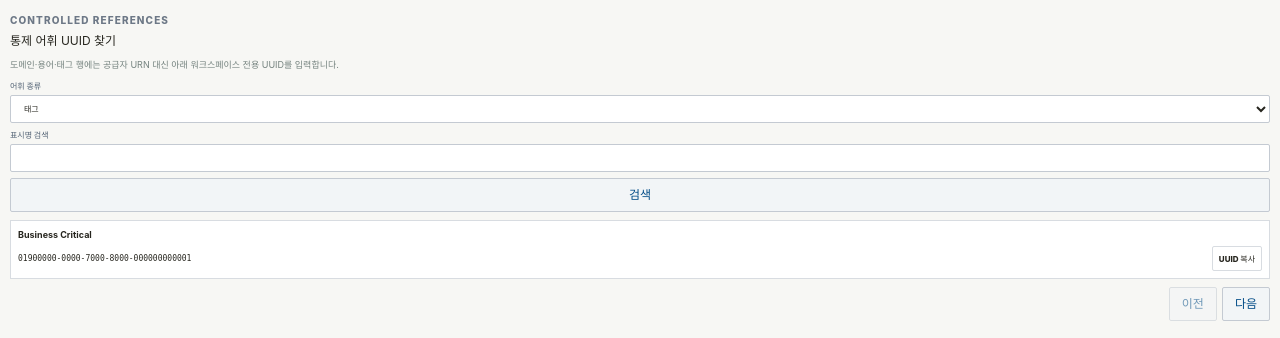
Test: replaces bounded vocabulary pages and never renders provider identities
The width and height of the screenshot is (1280, 338).
Check: the text "Business Critical" is shown, box [18, 228, 92, 240]
Check: the text "01900000-0000-7000-8000-000000000001" is shown, box [18, 254, 191, 262]
Click the button with aria-label "Business Critical UUID 복사" at point(1237, 258), box [1212, 246, 1262, 271]
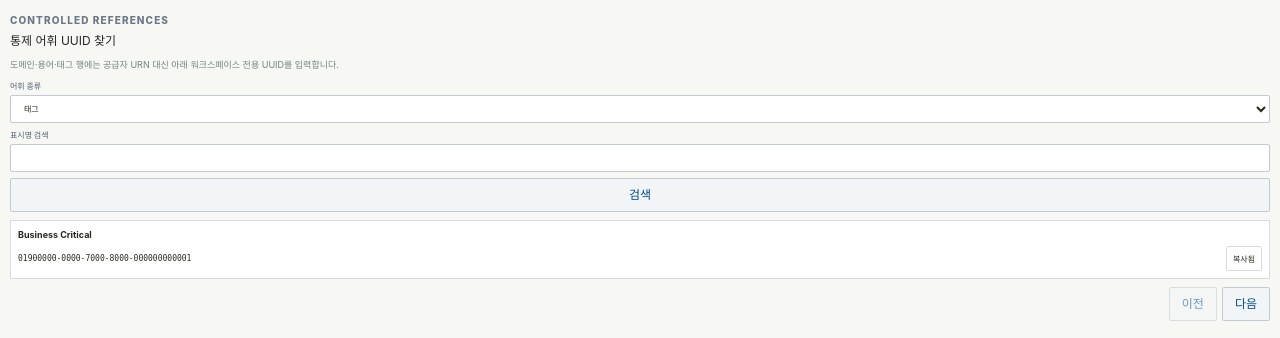
Check: the button with aria-label "Business Critical UUID 복사" reads "복사됨", box [1226, 246, 1262, 271]
Click the button with aria-label "다음 어휘 페이지" at point(1246, 304), box [1222, 287, 1270, 321]
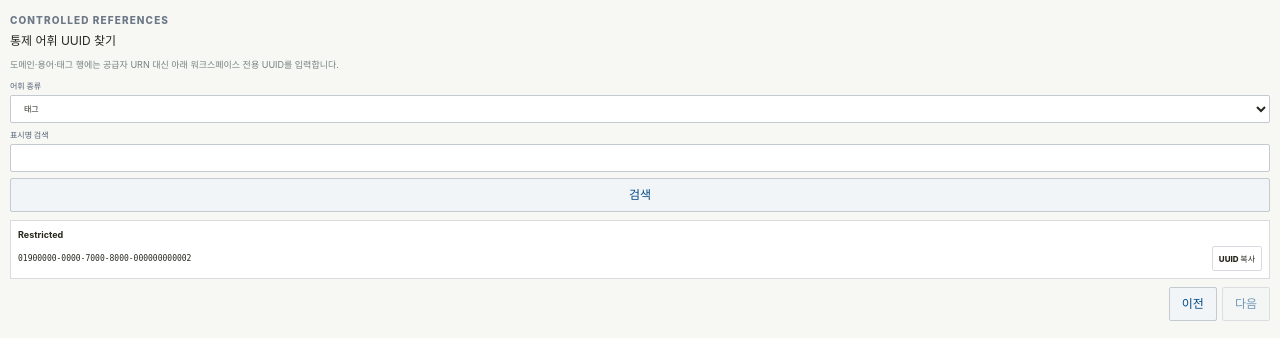
Check: the text "Restricted" is shown, box [18, 228, 63, 240]
Check: the text "Business Critical" is gone
